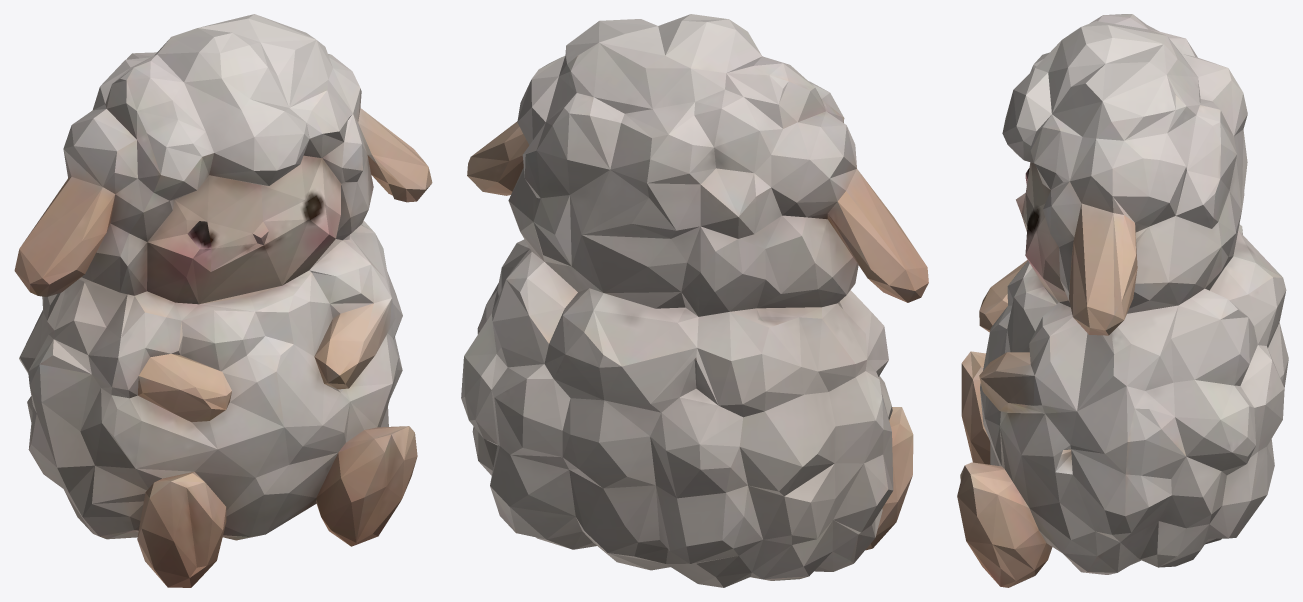
File: sheep_sit_lo.glb
The picture shows the model from 3 angles, left to right: view 1: azimuth 30°, elevation 25°; view 2: azimuth 150°, elevation 25°; view 3: azimuth 270°, elevation 25°; orthographic projection. The views are drawn at different scales.
Parts seen in each view (by area): view 1: geometry_0; view 2: geometry_0; view 3: geometry_0.
Part boxes in pixels (x1,y1,x2,y2): geometry_0: [14, 14, 432, 587]; geometry_0: [461, 14, 928, 587]; geometry_0: [957, 14, 1288, 587].
Bounding box in the file's own units: 0.858 × 0.9976 × 0.5866.
1 material, 1 textured.
